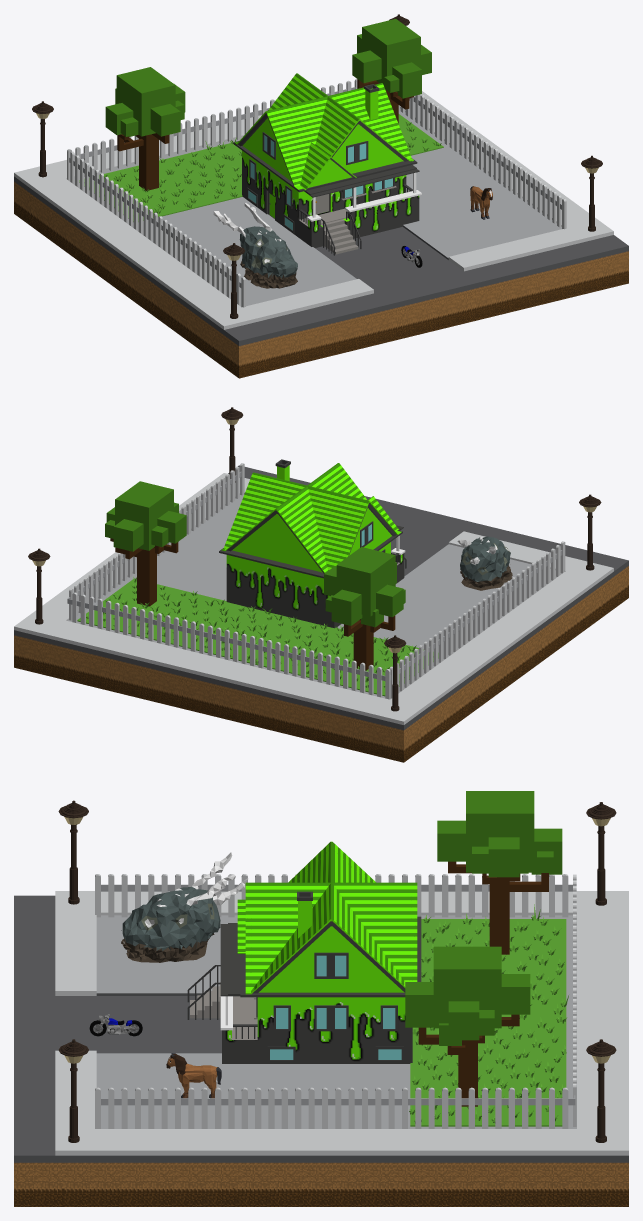
3 views of the same model, one above another, from view 1: azimuth 30°, elevation 25°; view 2: azimuth 150°, elevation 25°; view 3: azimuth 270°, elevation 25° (orthographic). The views are drawn at different scales.
Visible parts, largest first — view 1: Cube.004, Cube.754, OBJRANDOM_METEORITE, ANIMAL_CABALLO; view 2: Cube.004, Cube.754, OBJRANDOM_METEORITE; view 3: Cube.004, Cube.754, OBJRANDOM_METEORITE, ANIMAL_CABALLO, VEHICLES_CHOPPER.
Boxes of the visible parts, x1,y1,x2,y2 form: Cube.004: (14,14,628,378); Cube.754: (233,73,421,255); OBJRANDOM_METEORITE: (213,203,297,288); ANIMAL_CABALLO: (470,186,492,219); Cube.004: (14,407,628,762); Cube.754: (219,459,406,628); OBJRANDOM_METEORITE: (457,536,512,590); Cube.004: (14,791,628,1206); Cube.754: (187,841,421,1063); OBJRANDOM_METEORITE: (121,852,248,962); ANIMAL_CABALLO: (166,1053,221,1098); VEHICLES_CHOPPER: (89,1014,142,1036).
Size of the model in its own units: 4000 by 1700 by 4000.
Materials: 32 (4 with a texture image).
